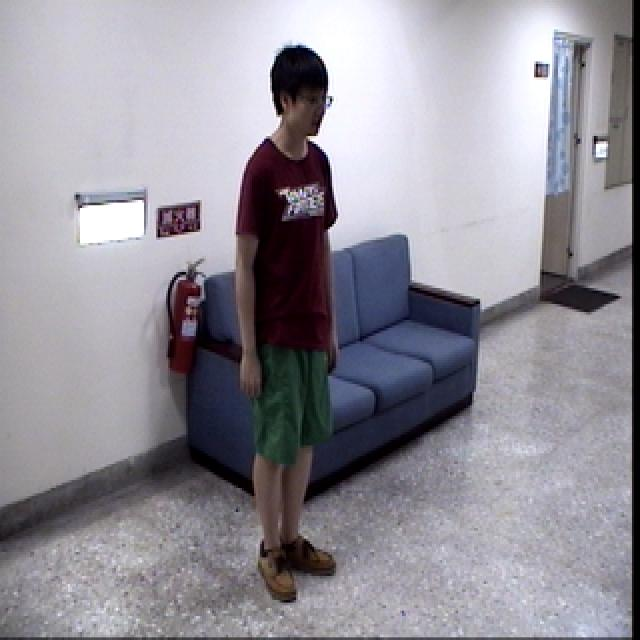stand: (222, 27, 361, 628)
